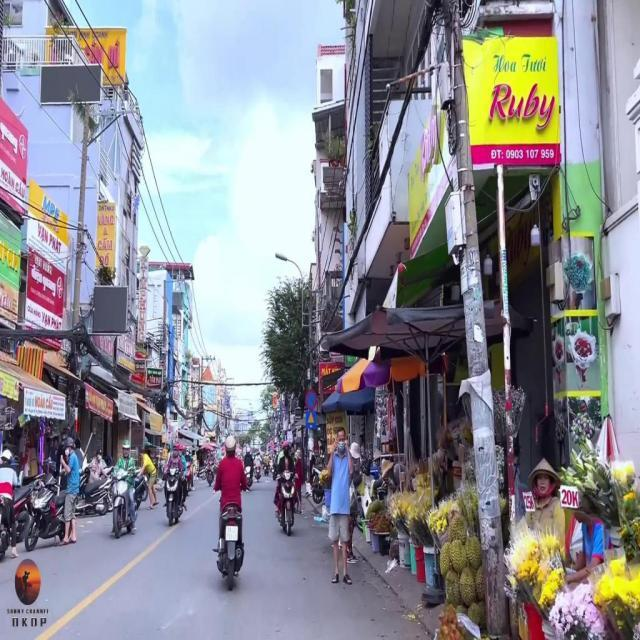442-cho: (306, 410, 316, 430)
